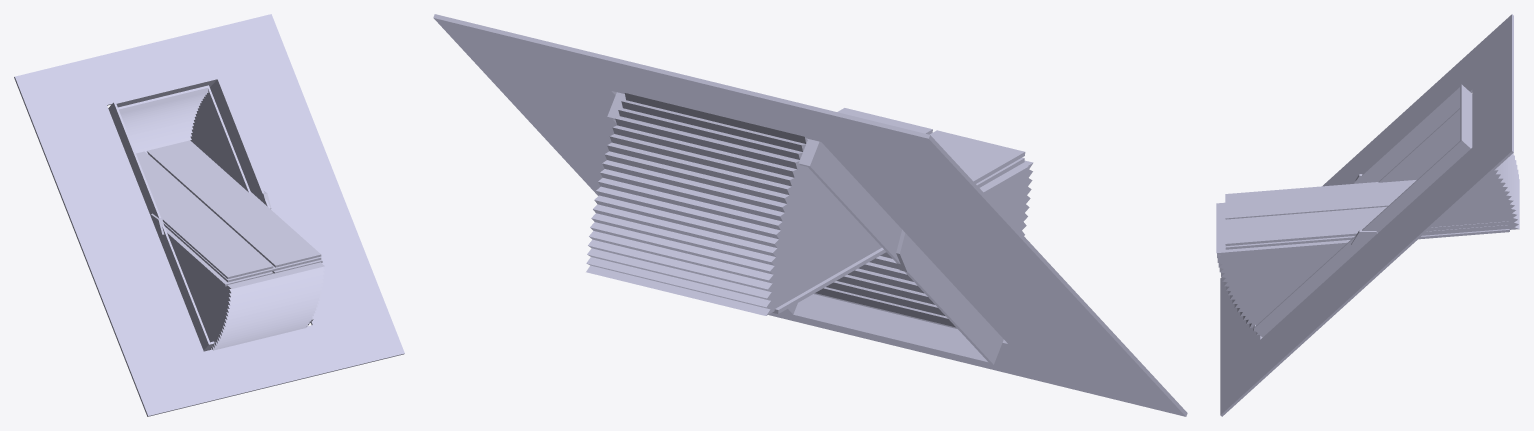
Rendered from RotateDock_005deg.glb.
The picture shows the model from 3 angles, left to right: view 1: azimuth 30°, elevation 25°; view 2: azimuth 150°, elevation 25°; view 3: azimuth 270°, elevation 25°; orthographic projection. The views are drawn at different scales.
Visible parts, largest first — view 1: copy_Body021, copy_LinkGroup004, copy_Body023, copy_Body022, copy_Body, copy_LinkGroup003; view 2: copy_Body021, copy_Body022, copy_Body, copy_Body023, copy_LinkGroup004, copy_LinkGroup003, copy_Body002; view 3: copy_Body021, copy_LinkGroup004, copy_Body, copy_Body023, copy_Body022, copy_LinkGroup003, copy_Body001.
Part boxes in pixels (x1,y1,x2,y2): copy_Body021: (14,14,404,416); copy_LinkGroup004: (136,140,321,282); copy_Body023: (168,236,324,350); copy_Body022: (118,85,250,192); copy_Body: (108,77,313,351); copy_LinkGroup003: (164,226,322,286); copy_Body021: (433,14,1187,416); copy_Body022: (586,93,881,315); copy_Body: (607,92,1003,364); copy_Body023: (814,160,1033,328); copy_LinkGroup004: (837,108,1025,187); copy_LinkGroup003: (772,164,1028,313); copy_Body002: (896,229,924,271); copy_Body021: (1220,14,1513,416); copy_LinkGroup004: (1225,180,1509,249); copy_Body: (1253,84,1472,337); copy_Body023: (1216,202,1344,334); copy_Body022: (1378,108,1519,235); copy_LinkGroup003: (1226,229,1509,254); copy_Body001: (1351,230,1377,252).
Bounding box in the file's own units: 1.68 × 1.52 × 1.57.
